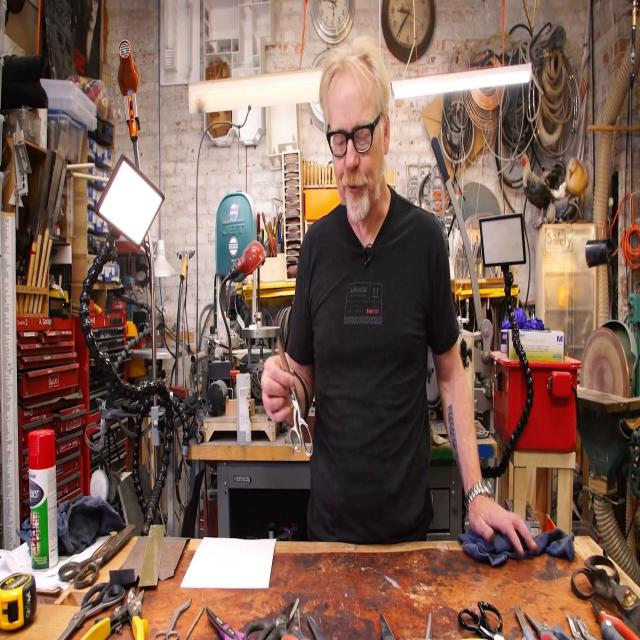scissor: (571, 554, 640, 640), (59, 524, 136, 588), (276, 336, 312, 454), (58, 582, 125, 640), (244, 599, 299, 640), (459, 599, 505, 640), (156, 596, 192, 640), (205, 607, 253, 640), (526, 613, 569, 640), (282, 605, 308, 640), (516, 606, 535, 640)
